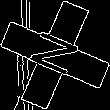N_SE: (24, 27, 86, 83)
